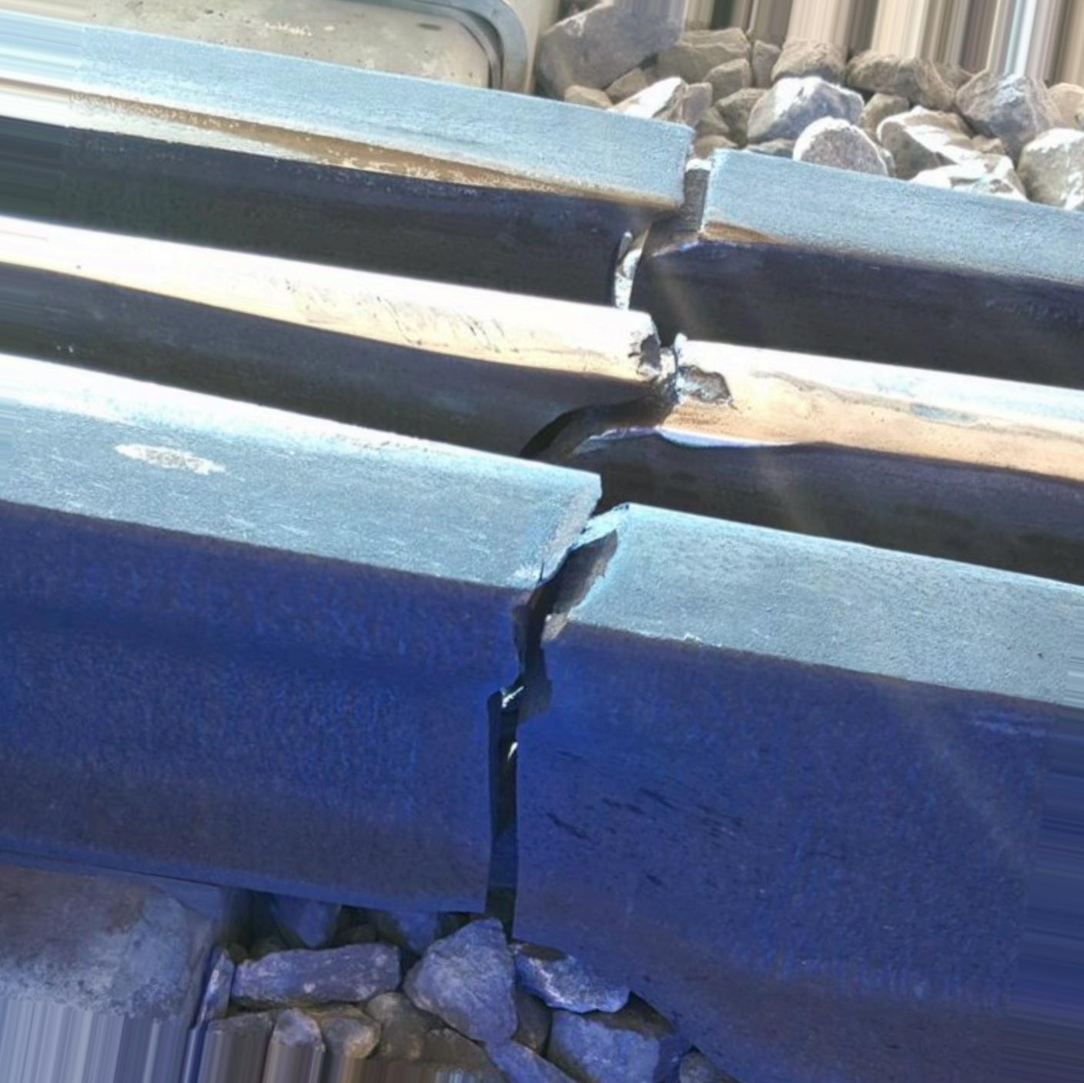tracks_fault: (435, 455, 721, 955), (601, 106, 771, 304), (585, 314, 769, 427)
